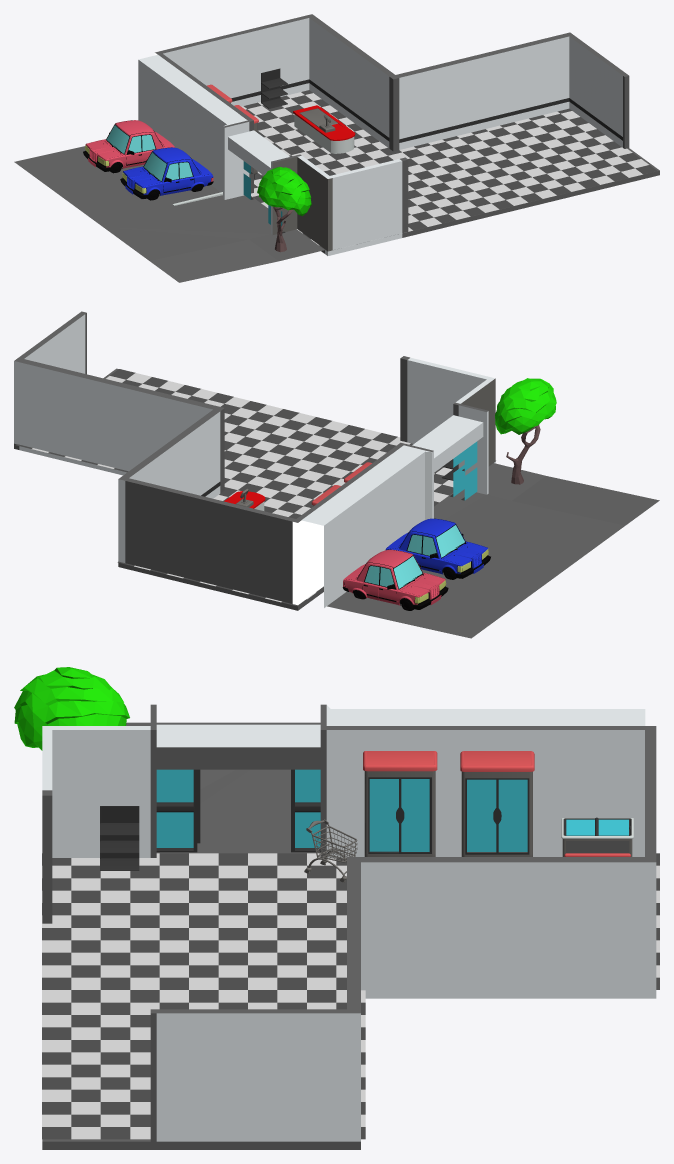
The model's file is MainScene(Textured+floor).glb.
The picture shows the model from 3 angles, top to bottom: view 1: azimuth 30°, elevation 25°; view 2: azimuth 150°, elevation 25°; view 3: azimuth 270°, elevation 25°; orthographic projection. The views are drawn at different scales.
Visible parts, largest first — view 1: Cube; view 2: Cube, Wall_windows_windows.001; view 3: Cube.
Boxes of the visible parts, <box> form: Cube: <box>14,14,659,282</box>; Cube: <box>14,311,659,638</box>; Wall_windows_windows.001: <box>464,441,477,500</box>; Cube: <box>14,667,659,1149</box>.
Size of the model in its own units: 49.94 by 9.66 by 32.92.
